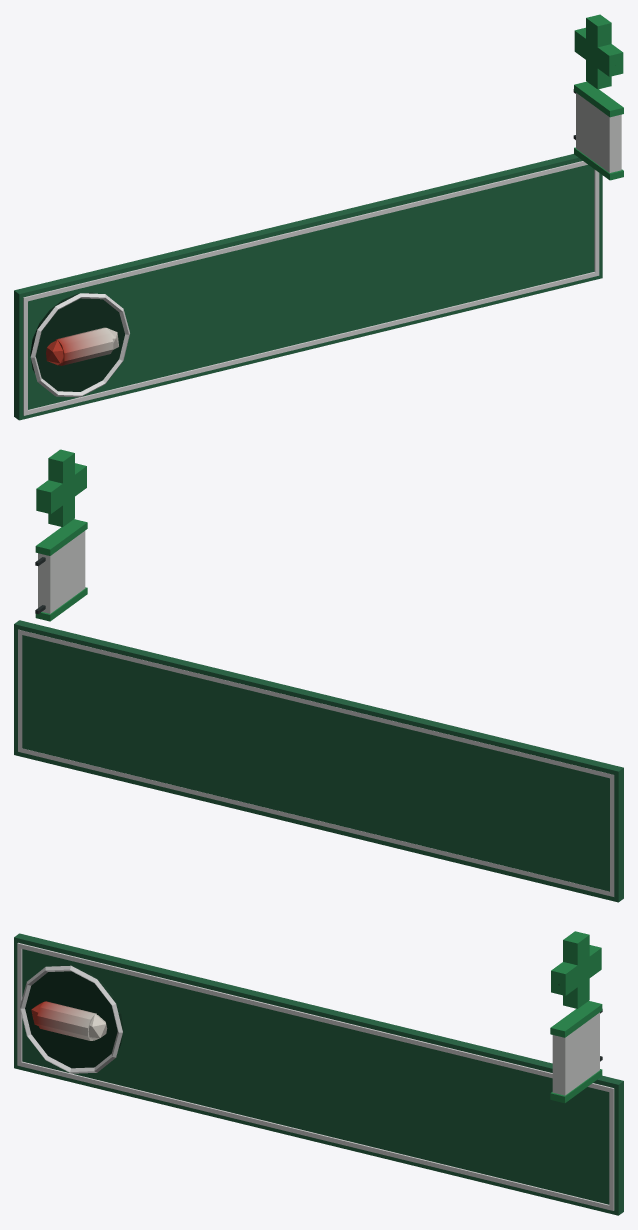
File: bang_quay_thuoc_hanh_phuc_60.glb
3 views of the same model, one above another, from view 1: azimuth 30°, elevation 25°; view 2: azimuth 150°, elevation 25°; view 3: azimuth 330°, elevation 25° (orthographic). The views are drawn at different scales.
Parts seen in each view (by area): view 1: bang_quay_thuoc_hanh_phuc_60; view 2: bang_quay_thuoc_hanh_phuc_60; view 3: bang_quay_thuoc_hanh_phuc_60.
Boxes of the visible parts, left/top/right/bottom form: bang_quay_thuoc_hanh_phuc_60: left=14, top=14, right=623, bottom=420; bang_quay_thuoc_hanh_phuc_60: left=14, top=449, right=623, bottom=902; bang_quay_thuoc_hanh_phuc_60: left=14, top=931, right=623, bottom=1215.
Bounding box in the file's own units: 5.8 × 2.63 × 0.722.
